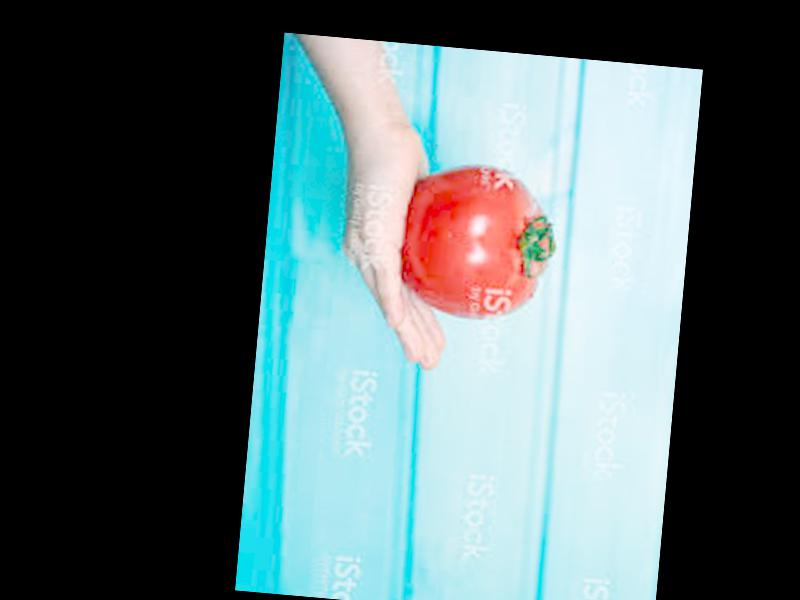Tomato: (395, 162, 559, 325)
